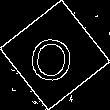O_N: (31, 27, 79, 83)
